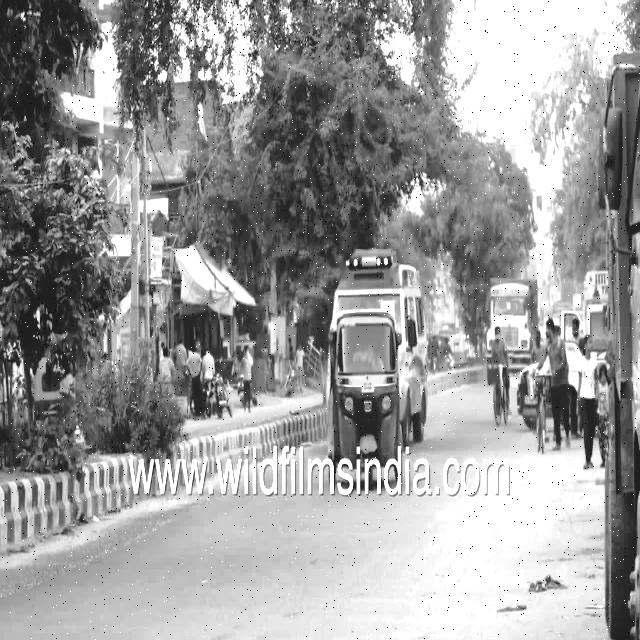Ambulance: (333, 248, 426, 326)
